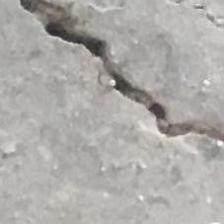Crack: (7, 0, 224, 154)
